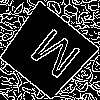M: (22, 26, 83, 88)
